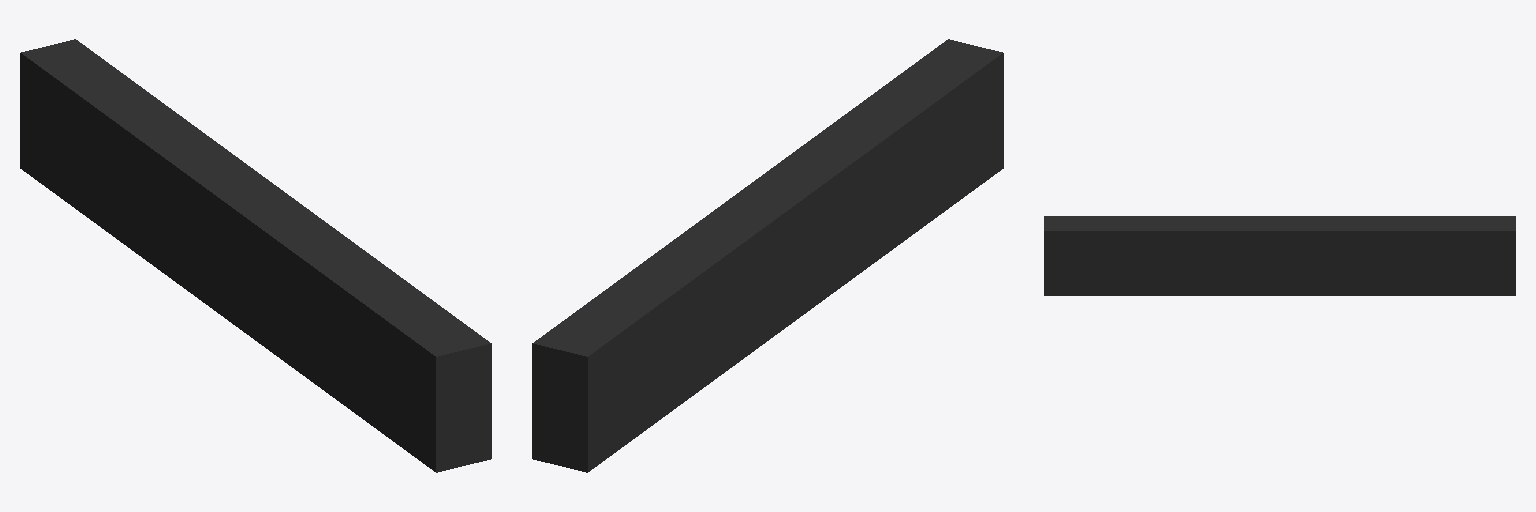
The robot description file, URDF, robot "wall":
<robot name="wall">
  <link name="baseLink">
   
    <inertial>
      <origin rpy="0 0 0" xyz="0 0 0" />
       <mass value="1000.0" />
       <inertia ixx="0" ixy="0" ixz="0" iyy="0" iyz="0" izz="0" />
    </inertial>
    <visual>
      <origin rpy="0 0 0" xyz="0 0 0" />
      <geometry>
			  <box size="1 13 2" />
      </geometry>
       <material name="grey">
        <color rgba="0.24 0.24 0.24 1" />
      </material>
    </visual>
    <collision>
      <origin rpy="0 0 0" xyz="0 0 0" />
      <geometry>
	 	      <box size="1 13 2" />
      </geometry>
    </collision>
  </link>
</robot>

--- Facts derived from the render (not from the file) ---
The picture shows the robot from 3 angles, left to right: view 1: azimuth 30°, elevation 25°; view 2: azimuth 150°, elevation 25°; view 3: azimuth 270°, elevation 25°; orthographic projection.
Robot: wall — 1 links, 0 joints (none); root link baseLink; default pose: all joints at 0.
Links seen in each view (by area): view 1: baseLink; view 2: baseLink; view 3: baseLink.
Boxes of the visible links, x1,y1,x2,y2 form: baseLink: (20,39,491,472); baseLink: (532,39,1003,472); baseLink: (1044,216,1515,295).
Size in the robot's own frame: 1 by 13 by 2 metres.
Geometry: primitives only (box / cylinder / sphere), no mesh files.